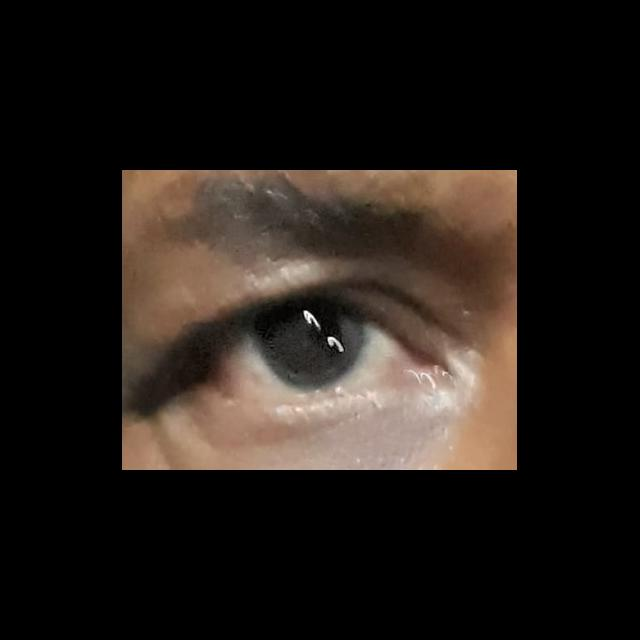eye: (207, 296, 412, 404)
iris: (250, 302, 367, 392)
